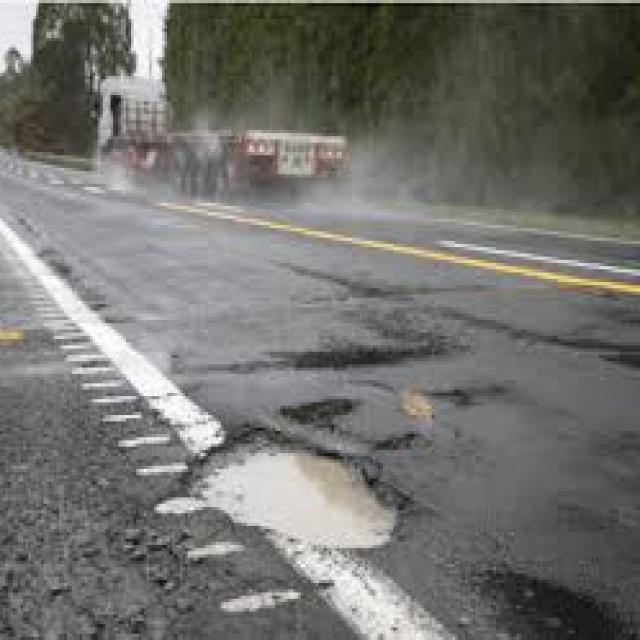Pothole: (176, 420, 406, 553), (241, 334, 472, 371), (280, 399, 352, 427), (374, 434, 416, 450)
